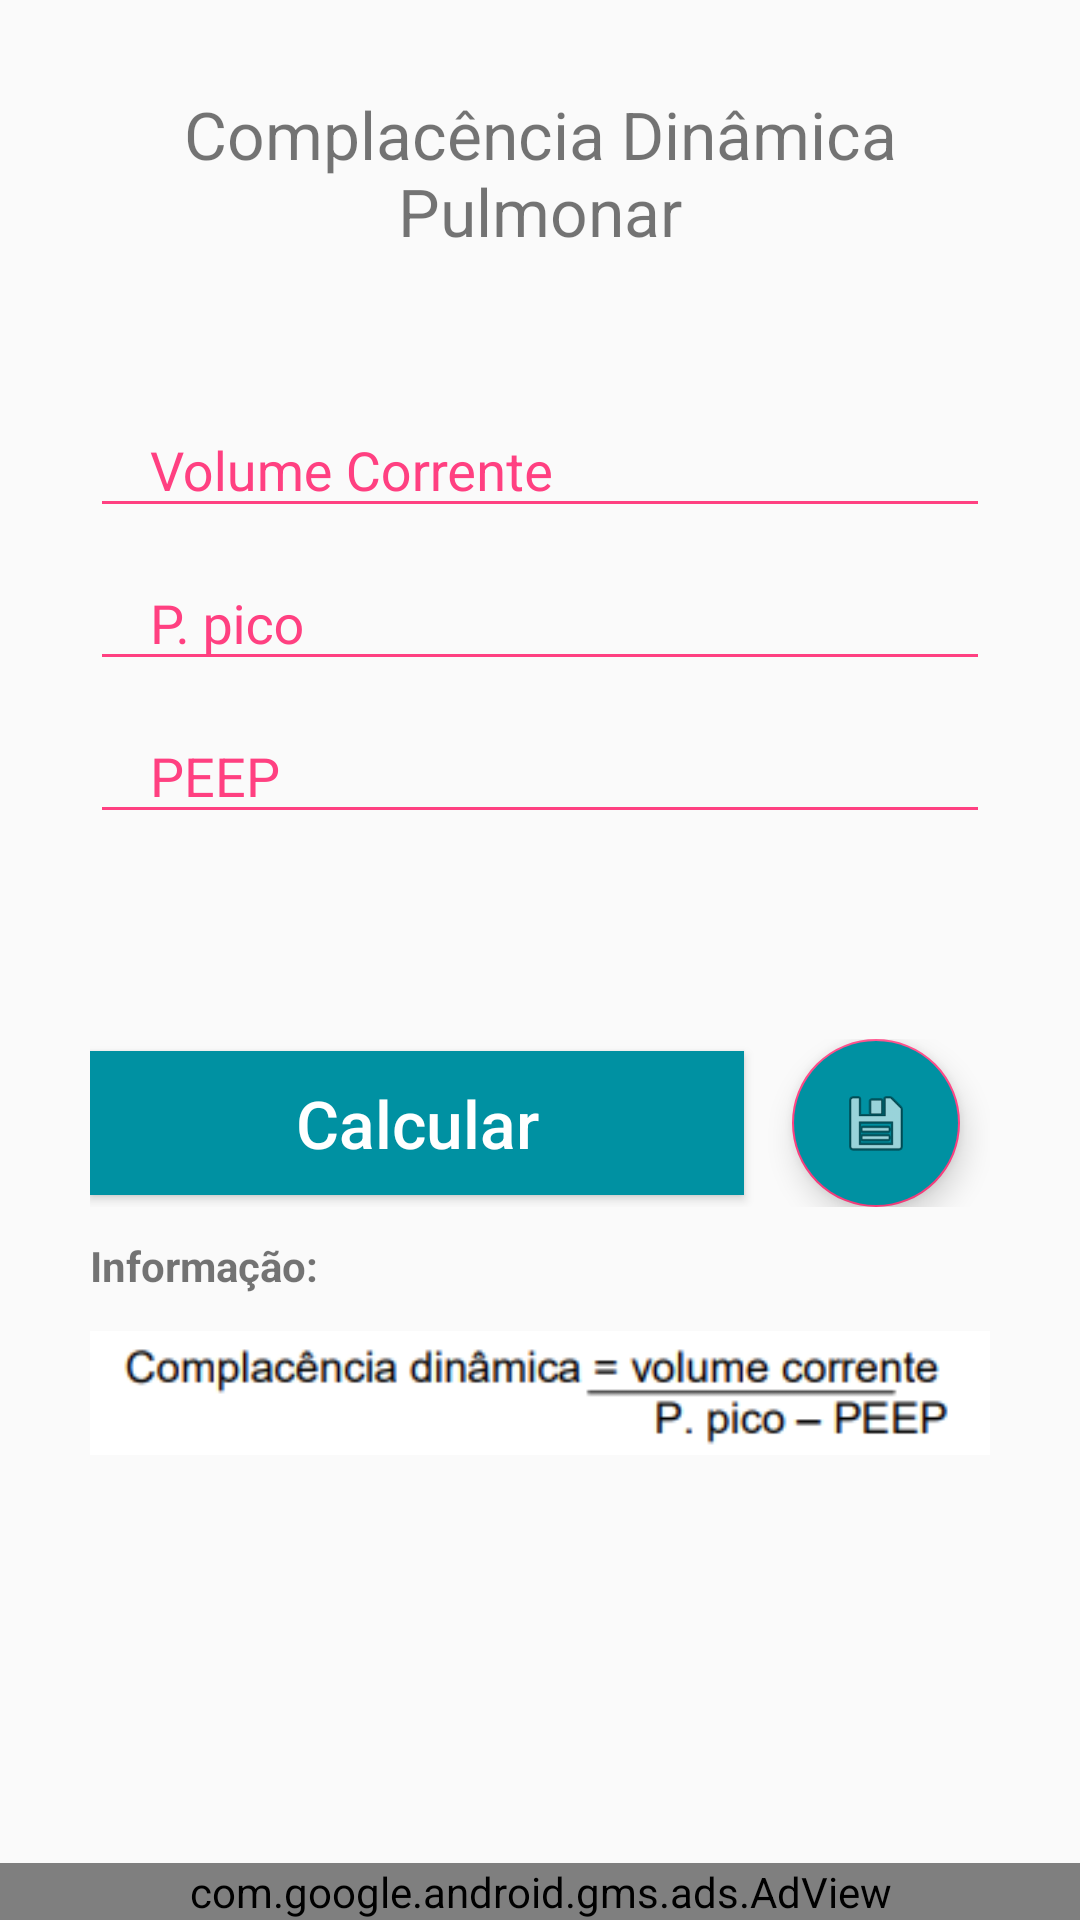

Where to tap for icons on this 1080 x 1920 app screen, as point (x, y):
save: point (876, 1123)
